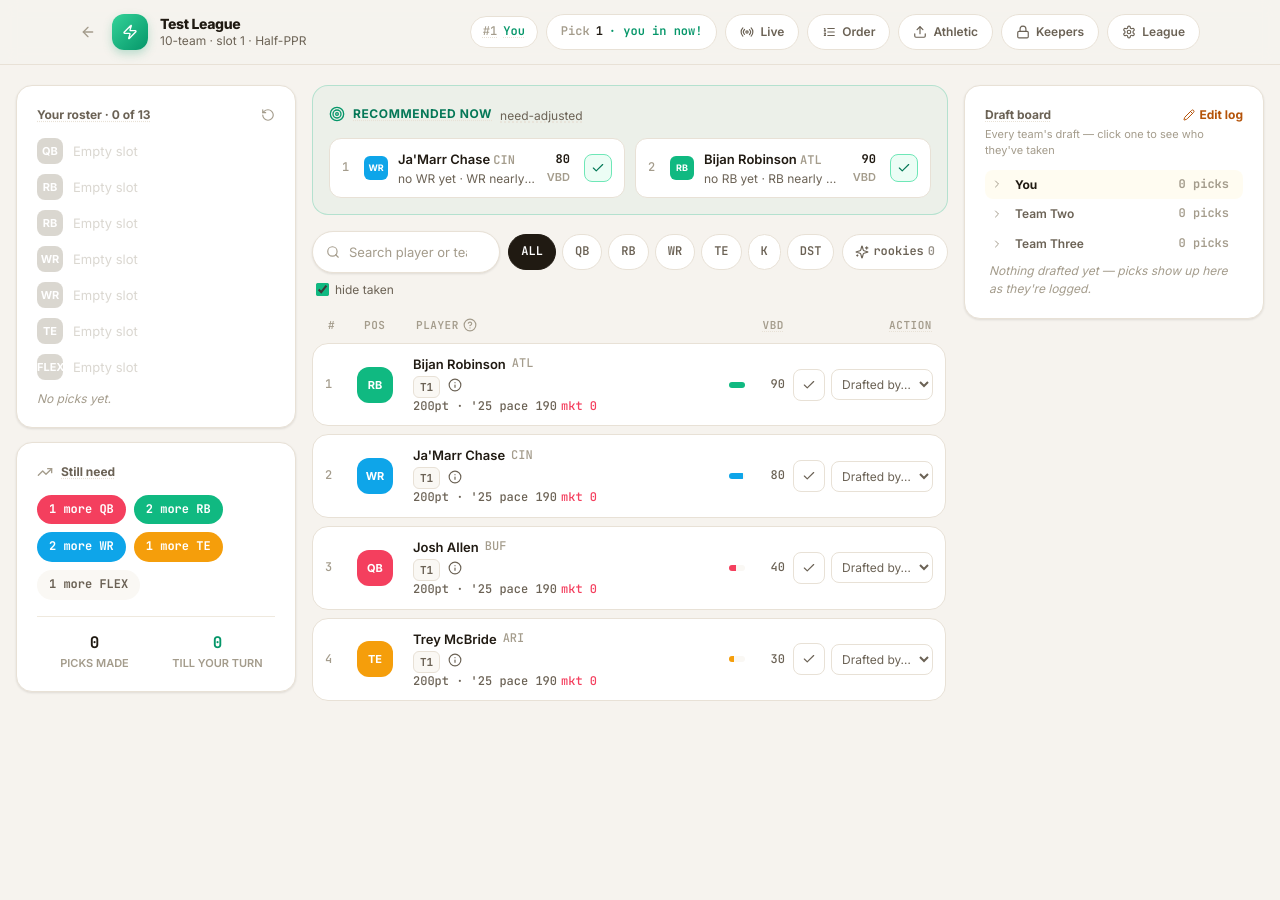
Test: SnakeRoom player board › says so when nothing matches, instead of rendering an empty box
This screenshot has width=1280, height=900.
Type "zzzz" into the field with placeholder "Search player or team" at (406, 252), box [312,231,500,273]
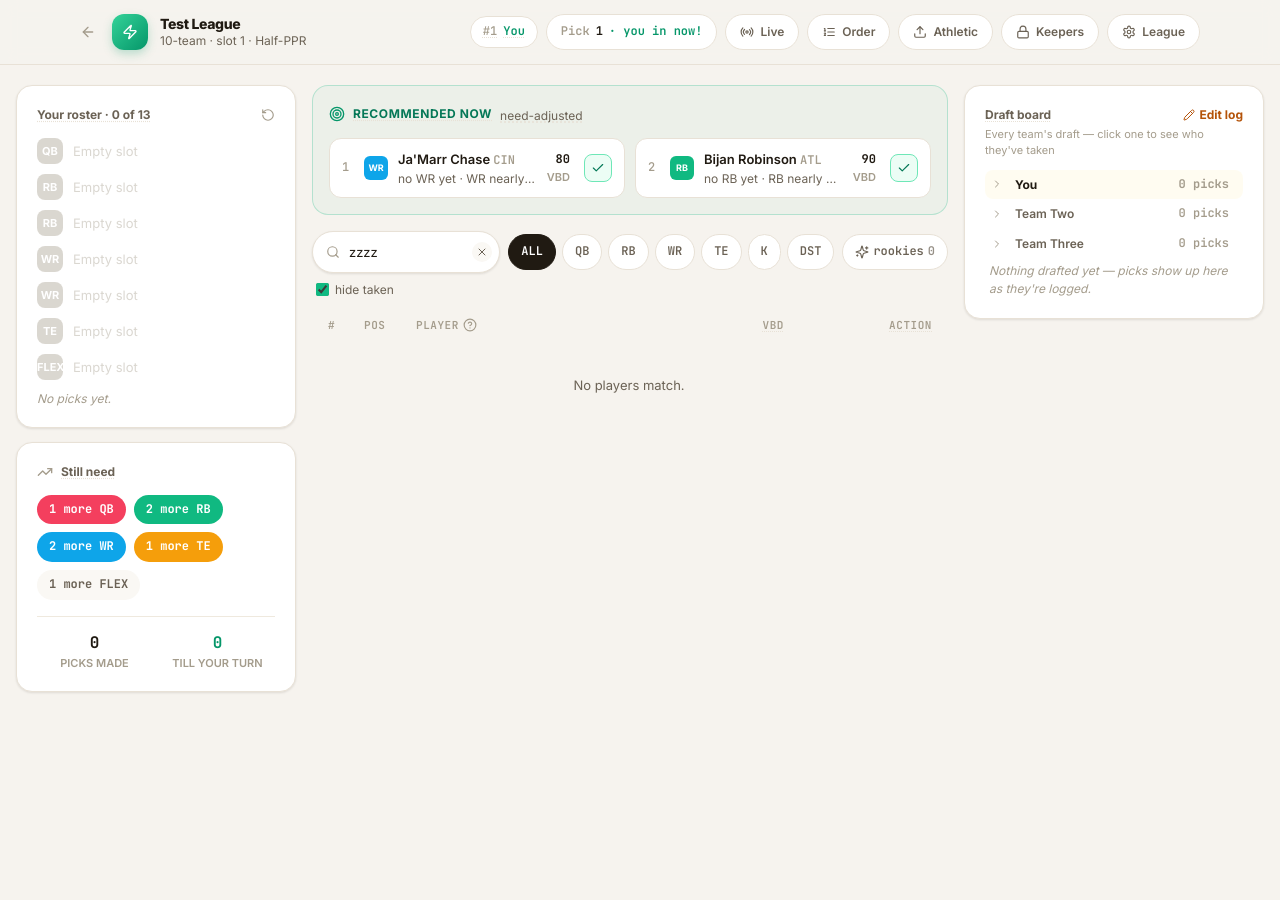
Now the text "No players match." is shown, box [573,377,685,393]
